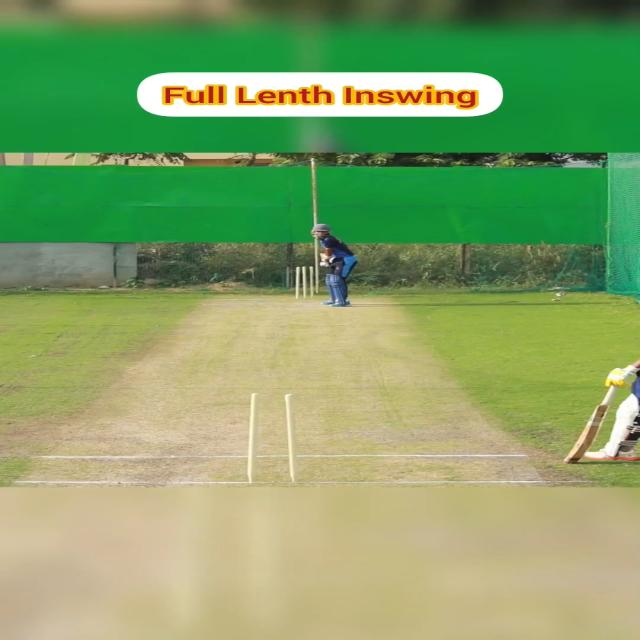stump: (248, 391, 302, 484), (294, 265, 316, 301)
